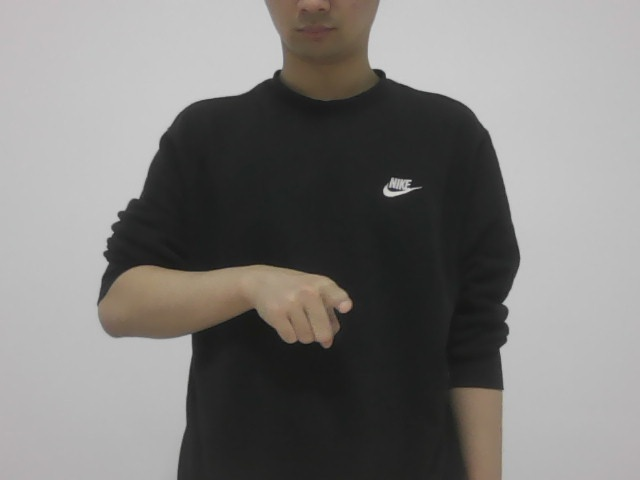you/your/this: (225, 239, 366, 353)
